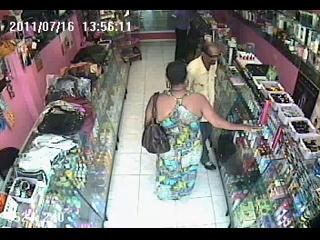Normal: (142, 60, 262, 202), (187, 42, 224, 170), (142, 92, 170, 154)
